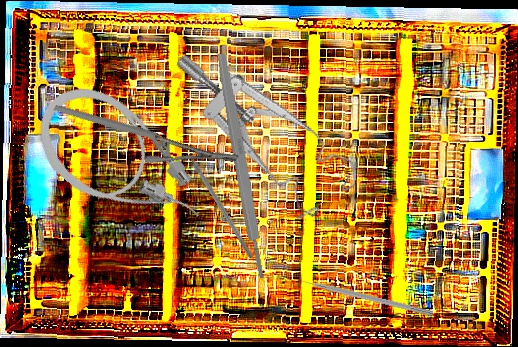Cannula: (18, 66, 221, 263)
Chopper: (292, 268, 436, 317)
Hook Surgical: (182, 143, 255, 259)
Needle Holder: (52, 52, 241, 213)
Scalpel Handle: (214, 52, 268, 280)
Speculum: (171, 7, 369, 243)
